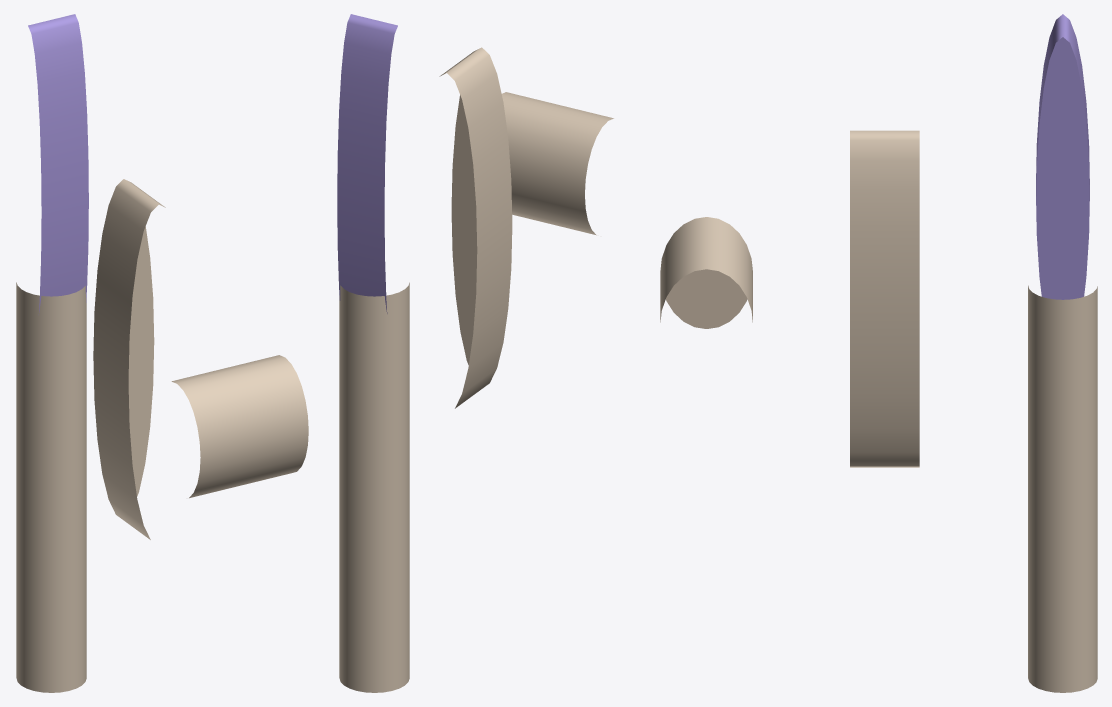
Rendered from tap.gltf.
3 views of the same model, side by side, from view 1: azimuth 30°, elevation 25°; view 2: azimuth 150°, elevation 25°; view 3: azimuth 270°, elevation 25° (orthographic).
Parts seen in each view (by area): view 1: stem, spout, handle, nozzle; view 2: stem, spout, handle, nozzle; view 3: stem, spout, handle, nozzle.
Boxes of the visible parts, bbox=[...] form: stem: bbox=[16, 282, 86, 692]; spout: bbox=[93, 179, 165, 539]; handle: bbox=[28, 14, 88, 314]; nozzle: bbox=[171, 355, 308, 498]; stem: bbox=[339, 282, 409, 692]; spout: bbox=[439, 47, 512, 408]; handle: bbox=[337, 14, 397, 313]; nozzle: bbox=[501, 92, 613, 235]; stem: bbox=[1028, 285, 1097, 692]; spout: bbox=[850, 130, 919, 467]; handle: bbox=[1036, 14, 1089, 299]; nozzle: bbox=[660, 217, 752, 328].
Bounding box in the file's own units: 0.08 × 0.465 × 0.2825.
